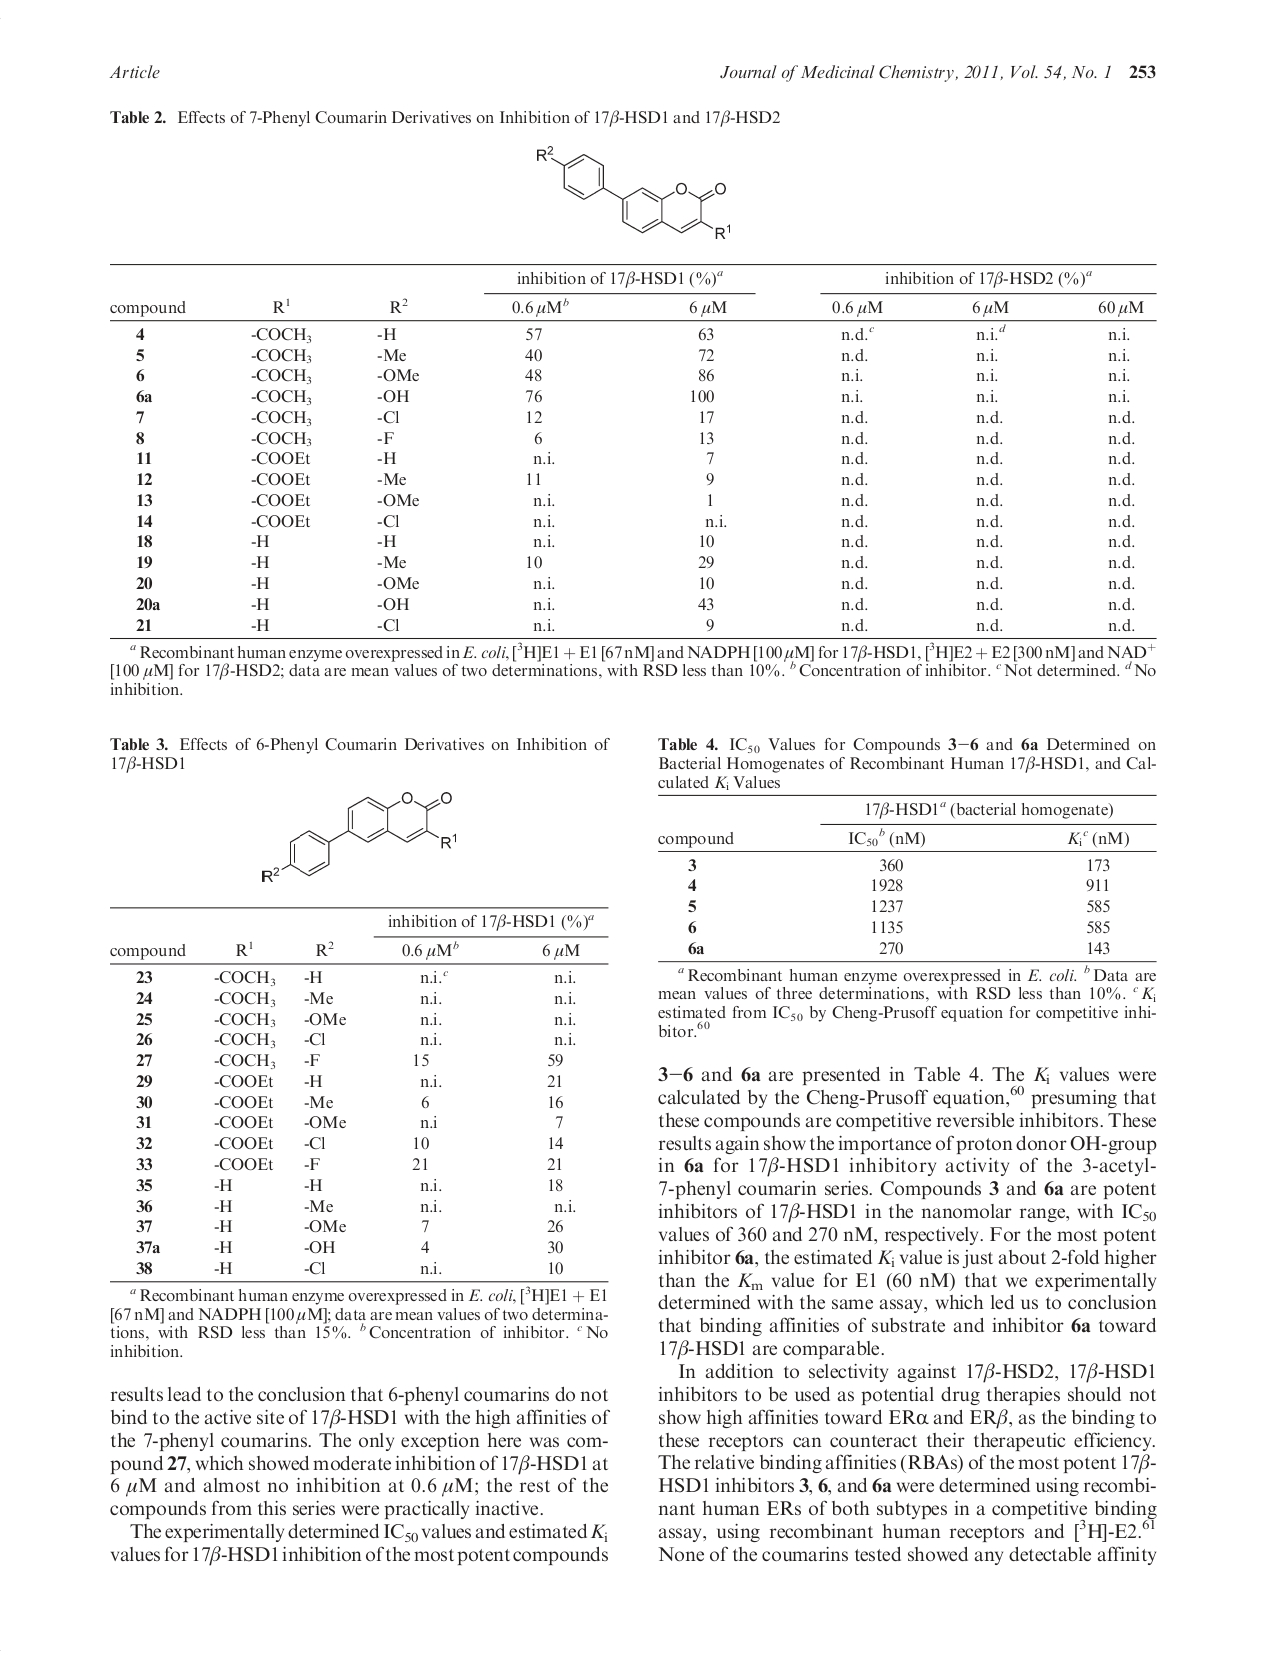exist_molecular: (533, 140, 733, 247), (251, 789, 461, 884)
